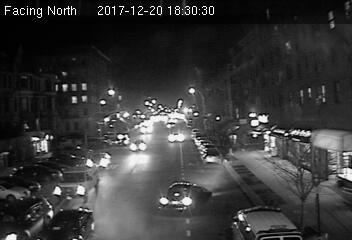car: (157, 180, 202, 210), (86, 153, 111, 169), (203, 147, 222, 165), (128, 138, 146, 153), (166, 130, 185, 143)
police: (231, 206, 302, 240)
truck: (53, 165, 100, 200)
